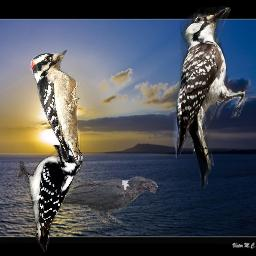Crow: (48, 175, 158, 226)
Woodpecker: (170, 4, 245, 193), (18, 145, 83, 254), (30, 50, 81, 165)
